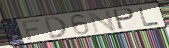6: (69, 13, 91, 36)
D: (43, 16, 69, 40)
F: (21, 18, 43, 42)
L: (137, 7, 161, 28)
N: (87, 9, 118, 34)
P: (113, 8, 137, 32)
